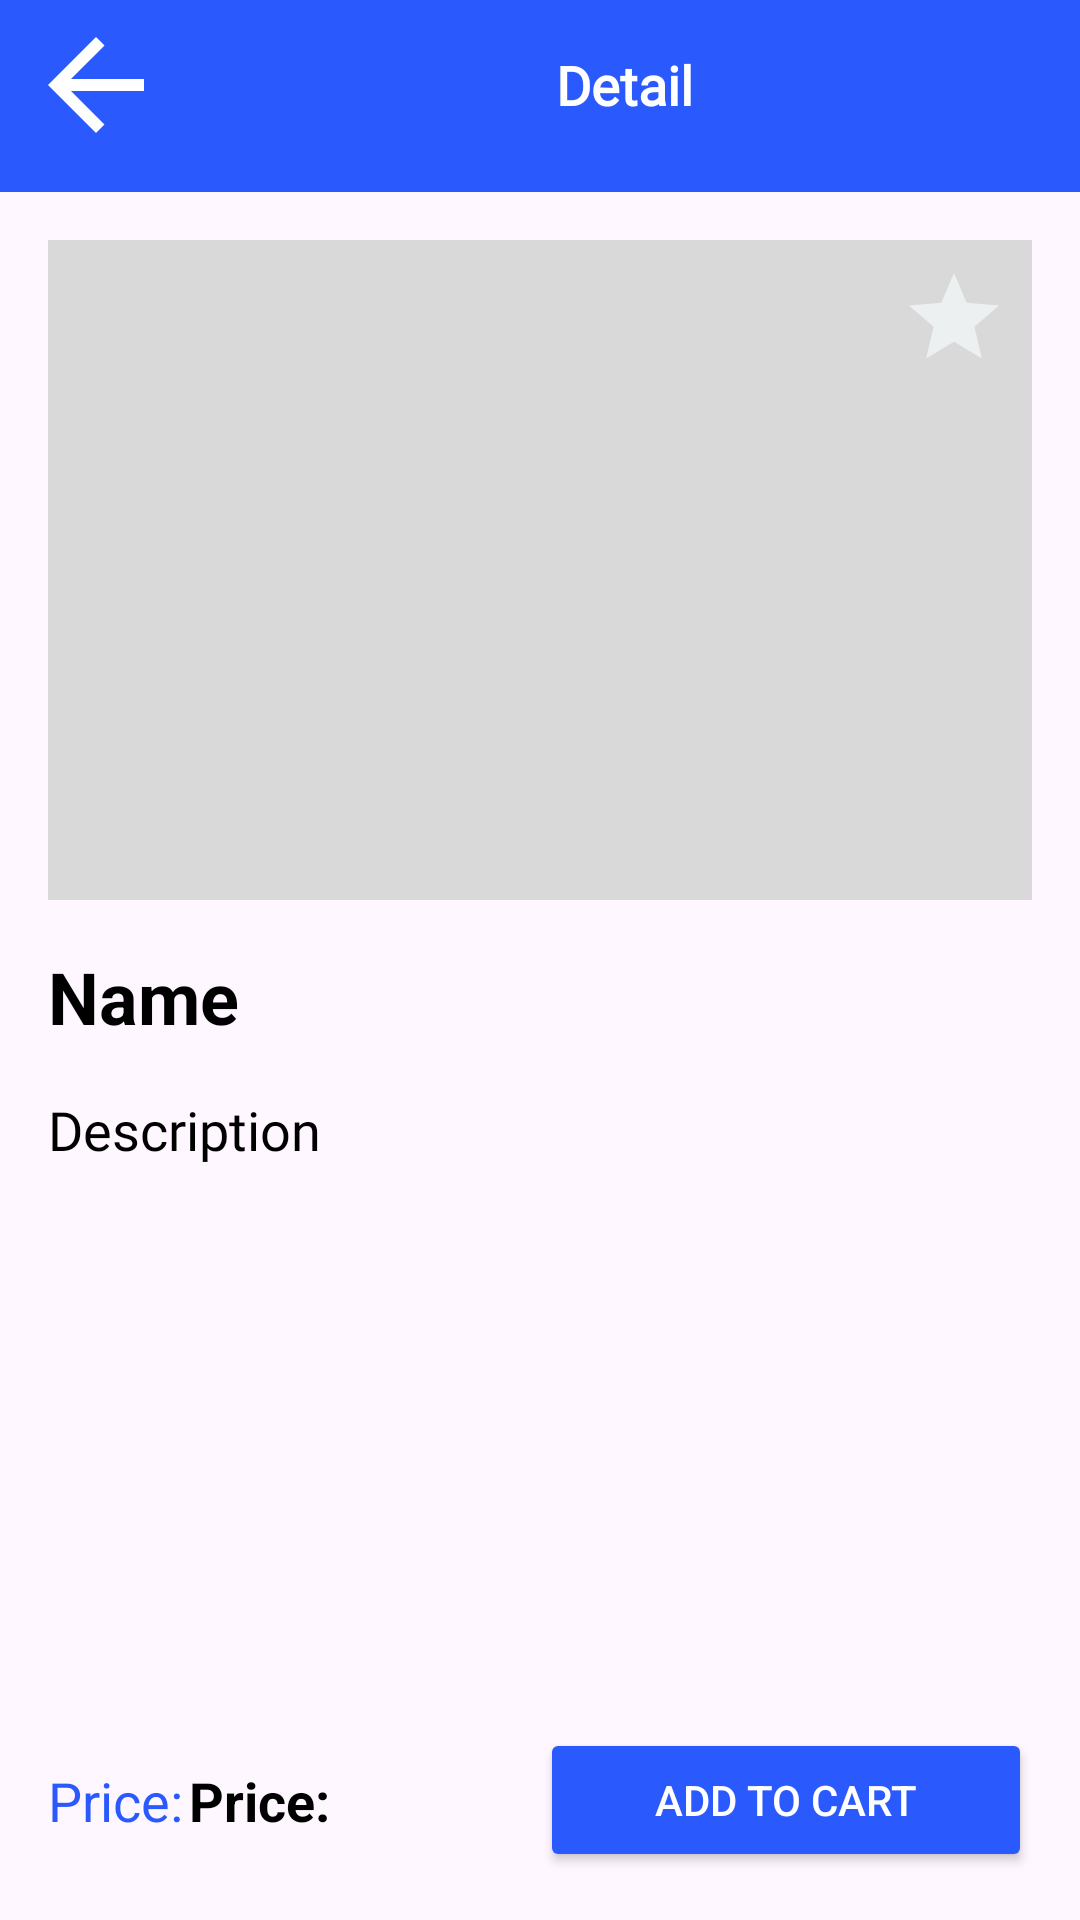

Named icons in this screenshot (1080px×1920px) and their centers, [x,y]:
Back: [96,85]
